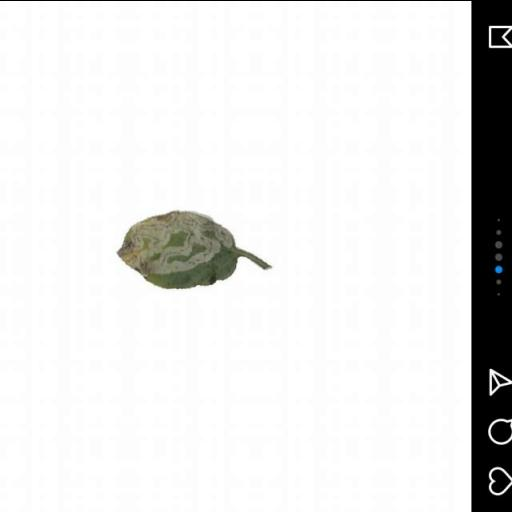disease_tomato: (116, 206, 240, 286)
